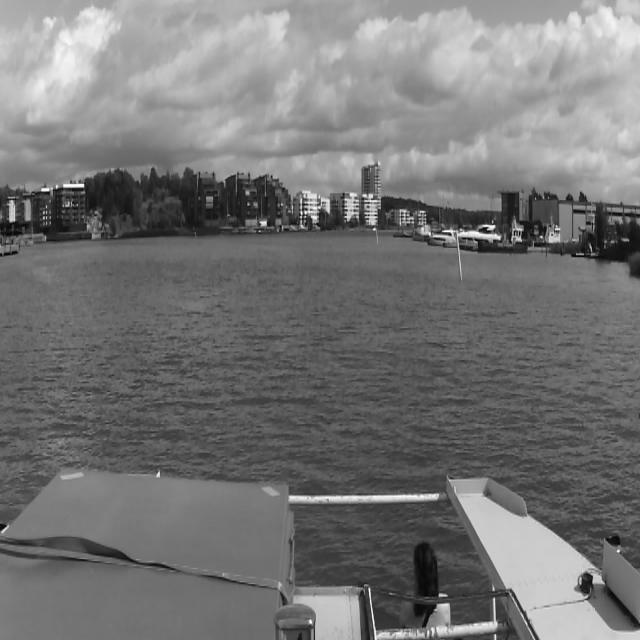buoy: (453, 221, 466, 289), (372, 222, 380, 250), (192, 225, 199, 243)
ship: (476, 212, 528, 256), (458, 220, 502, 244), (427, 228, 459, 249)
